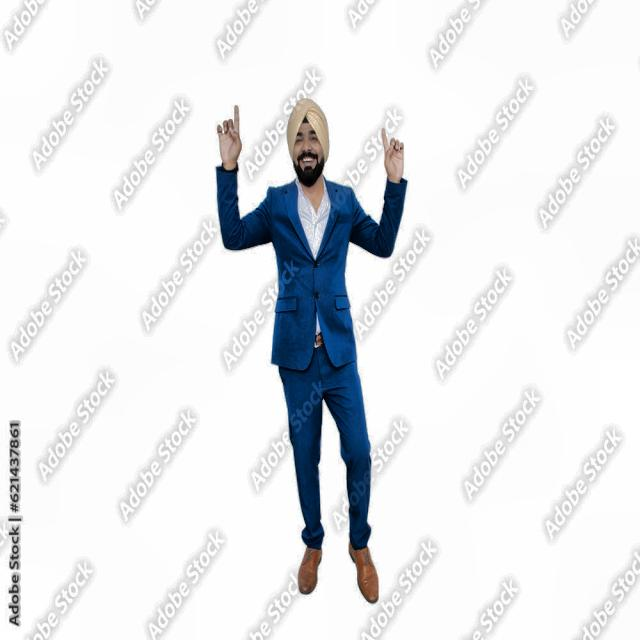Human: (215, 75, 420, 606)
